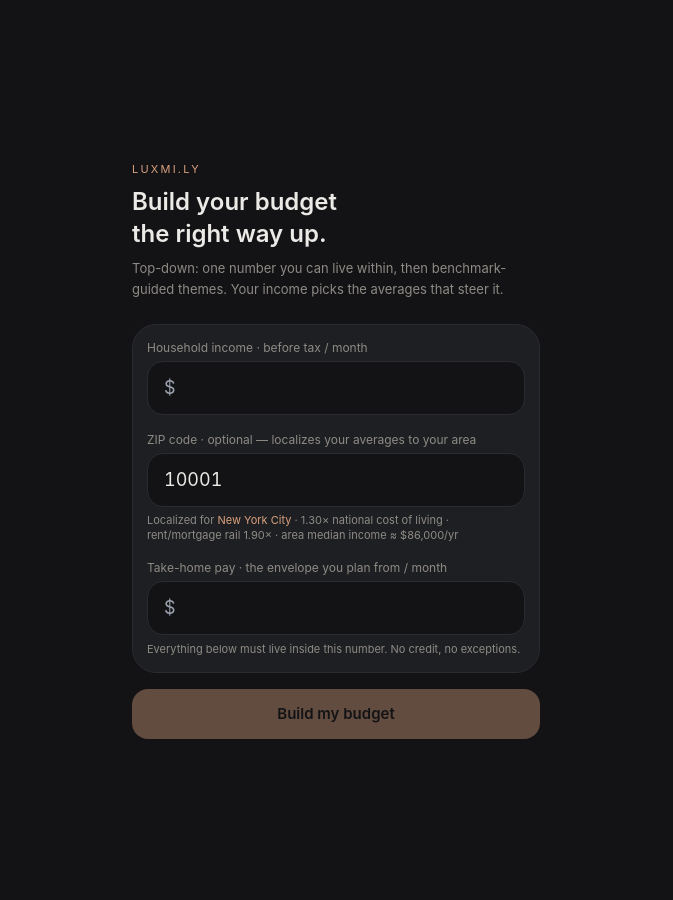
it: App — an optimizer, not a tracker › includes rideshare under Transportation
This screenshot has width=673, height=900.
Type "10000" into the number field named "Household income before tax per month" at x=336, y=388, box [147,361,525,415]
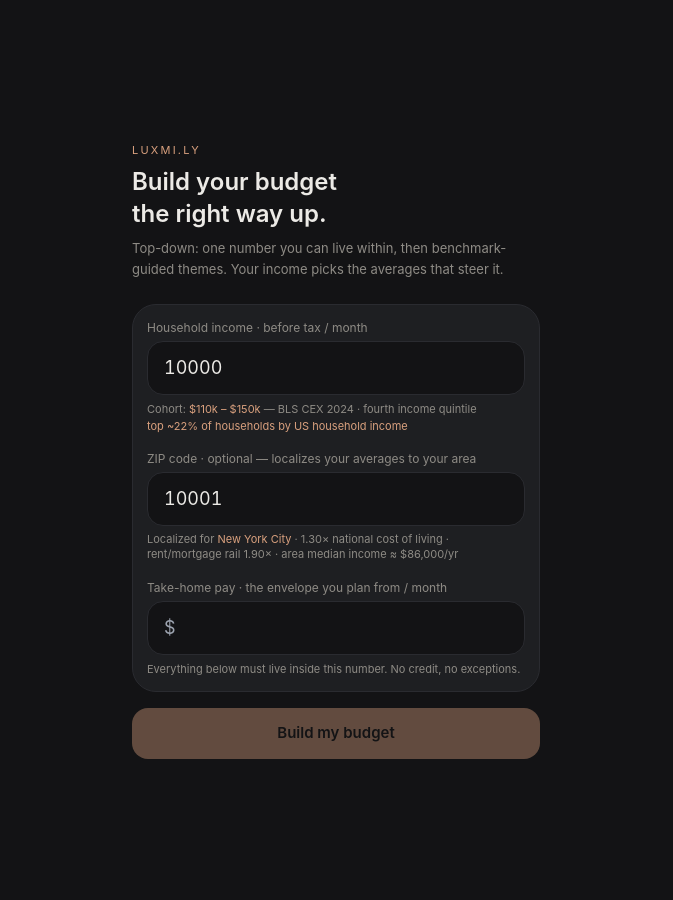
Type "6800" into the number field named "Take-home pay per month" at x=336, y=628, box [147,600,525,654]
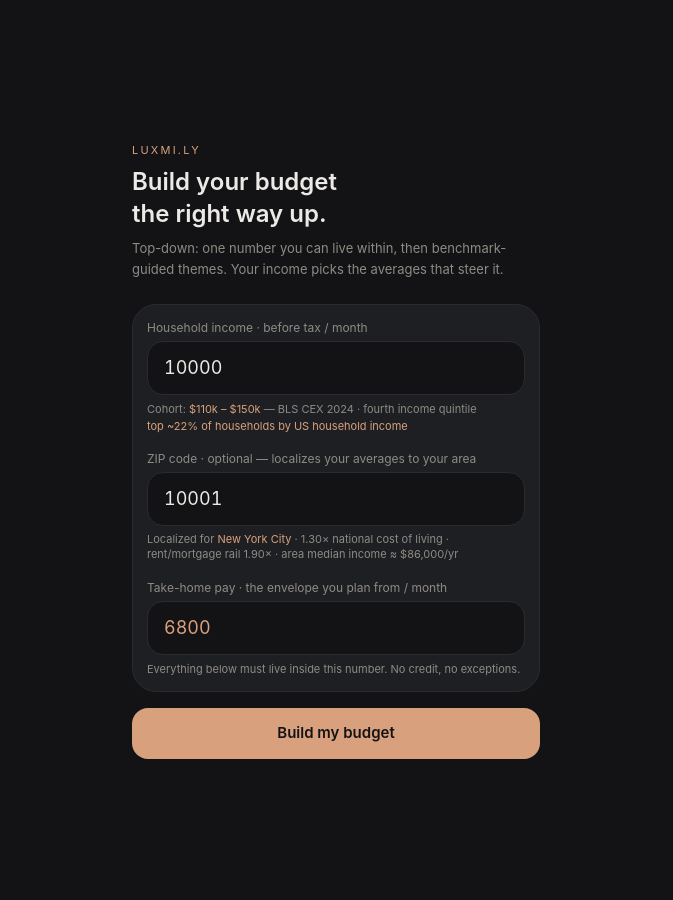
Click the button "Build my budget" at x=336, y=733, box [132,708,540,758]
(page scrolled)
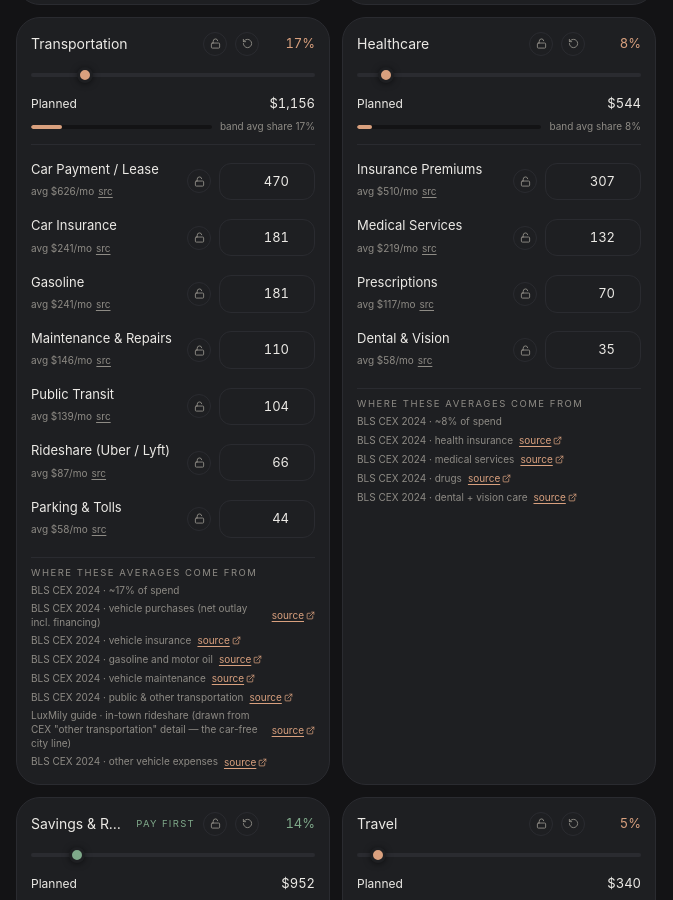
expect the text "Rideshare (Uber / Lyft)" is shown: met, box [31,442,170,459]
